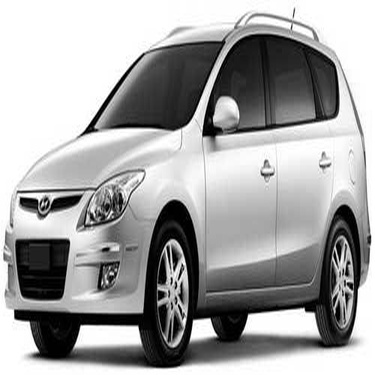car: (3, 5, 373, 369)
